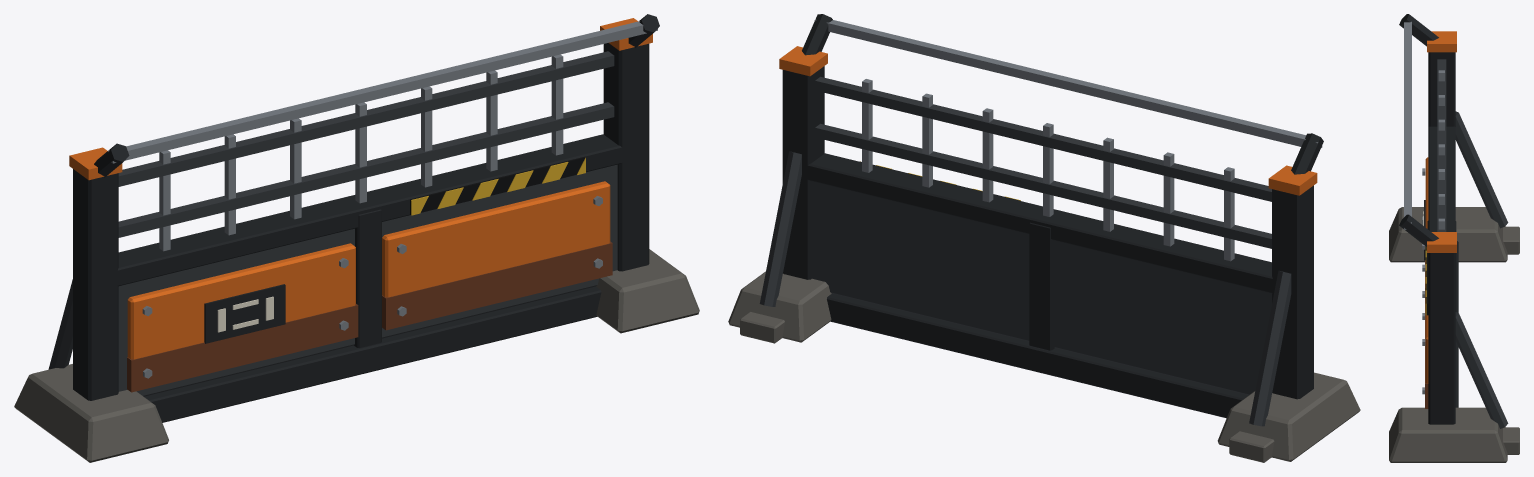
File: desert_barrier.fbx
3 views of the same model, side by side, from view 1: azimuth 30°, elevation 25°; view 2: azimuth 150°, elevation 25°; view 3: azimuth 270°, elevation 25° (orthographic). The views are drawn at different scales.
Visible parts, largest first — view 1: Body; view 2: Body; view 3: Body.
Boxes of the visible parts, x1,y1,x2,y2 form: Body: (14, 14, 699, 462); Body: (728, 14, 1360, 462); Body: (1389, 14, 1519, 462).
Size of the model in its own units: 8.43 by 3.96 by 2.01.
Materials: 1 (1 with a texture image).
